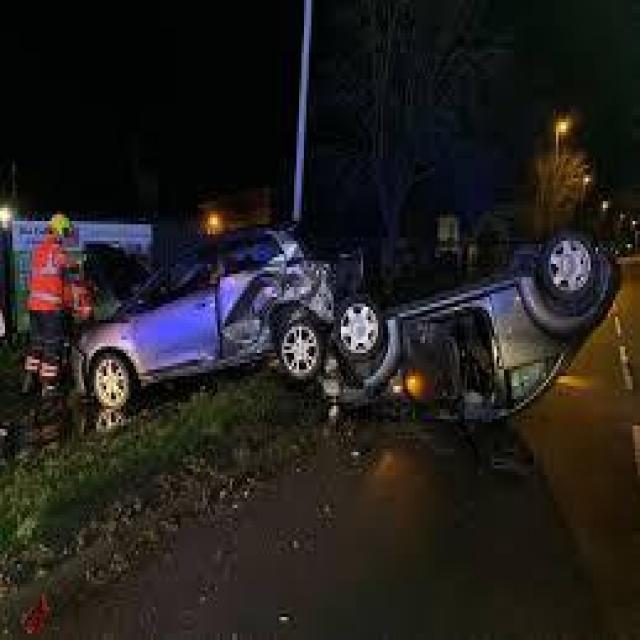severe: (64, 222, 618, 438)
